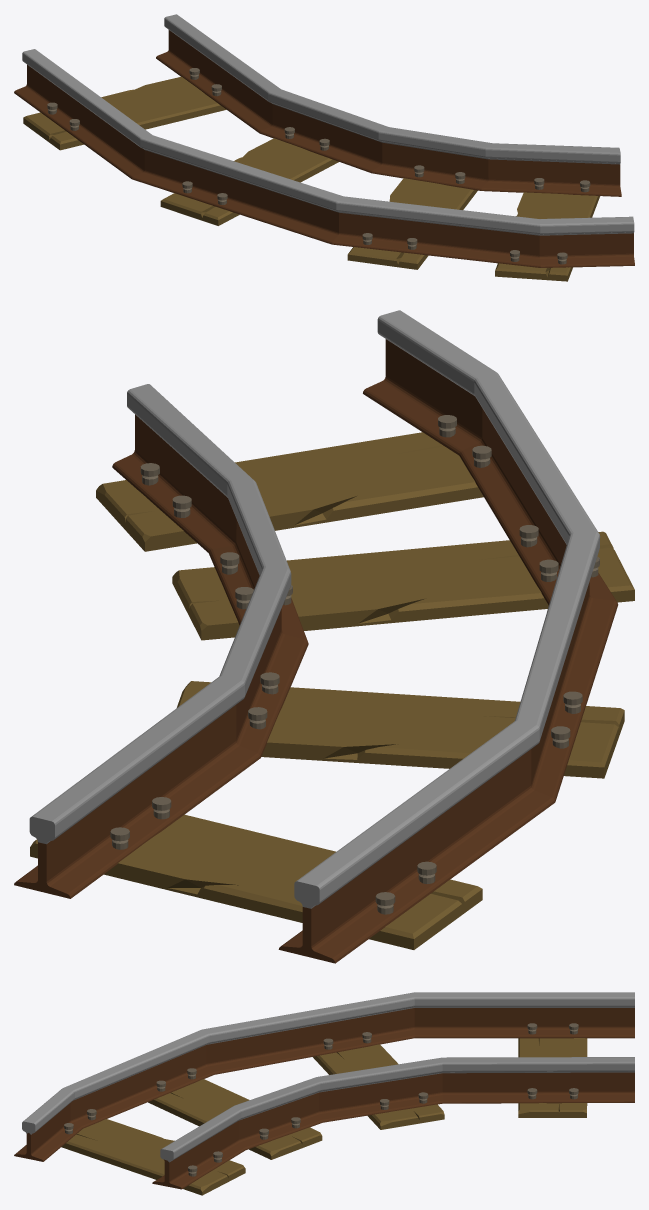
The model's file is ic_ray_tahta_egimli_.fbx.
3 renders of one model, top to bottom at view 1: azimuth 30°, elevation 25°; view 2: azimuth 150°, elevation 25°; view 3: azimuth 270°, elevation 25°, orthographic. The views are drawn at different scales.
Visible parts, largest first — view 1: Cube.002; view 2: Cube.002; view 3: Cube.002.
Boxes of the visible parts, x1=… form: Cube.002: x1=14, y1=14, x2=634, y2=281; Cube.002: x1=14, y1=310, x2=634, y2=963; Cube.002: x1=14, y1=992, x2=634, y2=1195.
Size of the model in its own units: 697 by 82.28 by 1060.
